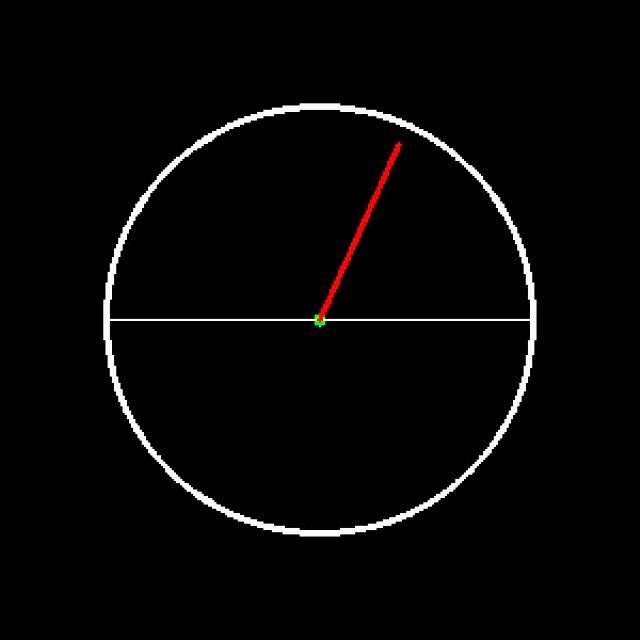Needle_Tip: (358, 104, 431, 198)
Needle_base: (286, 284, 347, 353)
